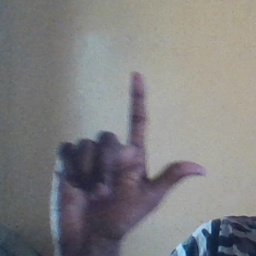L: (42, 71, 208, 244)
